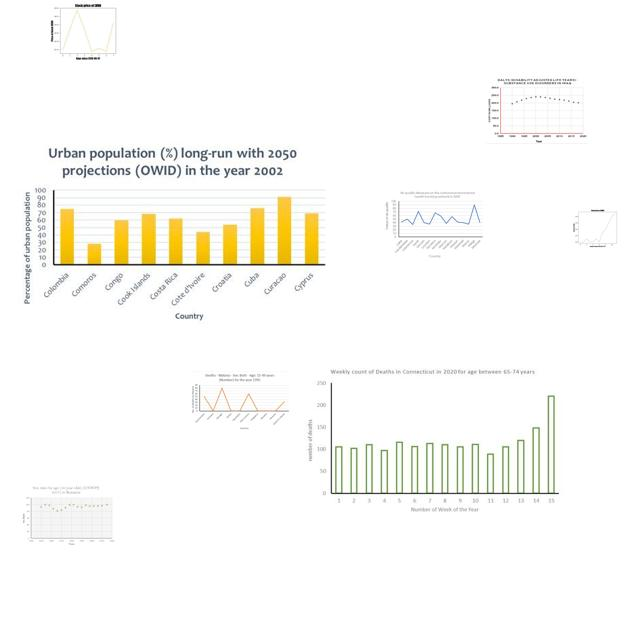Graph: (17, 141, 331, 326), (301, 364, 565, 520), (384, 189, 485, 259), (486, 77, 588, 144), (189, 371, 290, 431), (20, 485, 116, 547), (44, 1, 130, 60), (570, 207, 624, 248)
